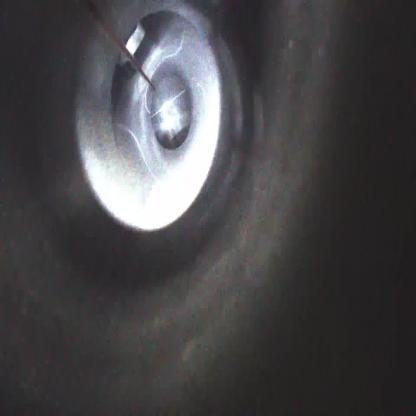NoCrack: (66, 1, 242, 237)
